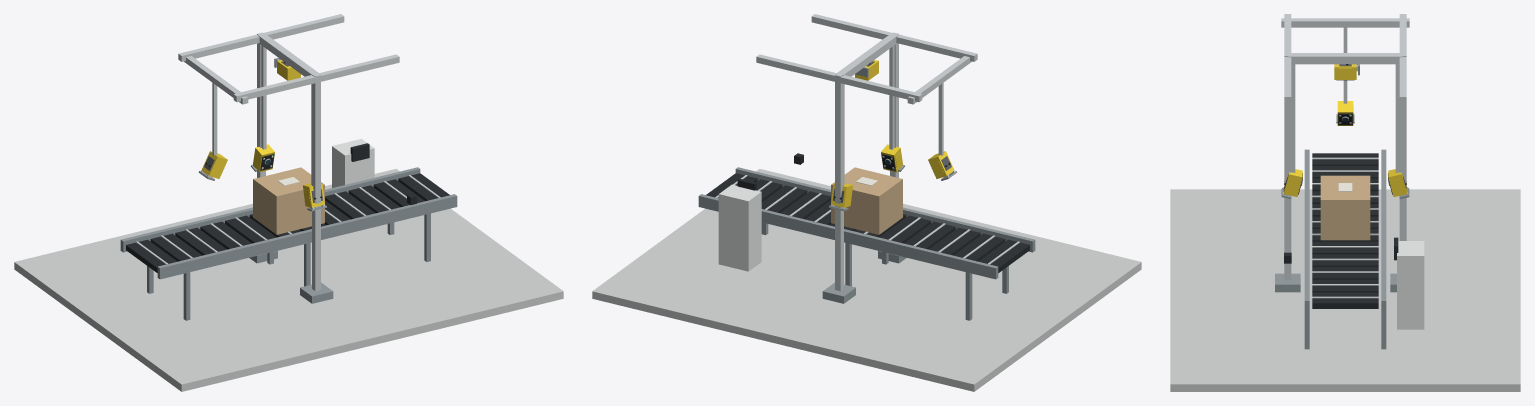
3 views of the same model, side by side, from view 1: azimuth 30°, elevation 25°; view 2: azimuth 150°, elevation 25°; view 3: azimuth 270°, elevation 25° (orthographic). The views are drawn at different scales.
Parts seen in each view (by area): view 1: Floor, Conveyor side rail, Parcel, Extrusion upright, Conveyor side rail.001, Longitudinal top frame, Longitudinal top frame.001, Control cabinet, Overhead crossbeam, Cross-belt sorter carrier, Cross-belt sorter carrier.001, Cross-belt sorter carrier.009 (+9 smaller); view 2: Floor, Conveyor side rail.001, Control cabinet, Parcel, Extrusion upright.001, Conveyor side rail, Longitudinal top frame.001, Longitudinal top frame, Overhead crossbeam, Cross-belt sorter carrier, Cross-belt sorter carrier.001, Cross-belt sorter carrier.002 (+7 smaller); view 3: Floor, Parcel, Control cabinet, Overhead crossbeam, Extrusion upright, End-face sensor bracket, Cross-belt sorter carrier.011, Conveyor side rail, Conveyor side rail.001, Extrusion upright.001, Cross-belt sorter carrier.007, Cross-belt sorter carrier.010 (+11 smaller).
Part boxes in pixels (x1,y1,x2,y2): Floor: (14,169,563,391); Conveyor side rail: (157,194,457,279); Parcel: (253,167,324,234); Extrusion upright: (312,74,320,291); Conveyor side rail.001: (120,167,420,252); Longitudinal top frame: (233,54,399,102); Longitudinal top frame.001: (178,14,344,61); Control cabinet: (332,139,374,187); Overhead crossbeam: (258,33,319,76); Cross-belt sorter carrier: (126,239,177,272); Cross-belt sorter carrier.001: (150,233,201,261); Cross-belt sorter carrier.009: (348,185,400,213); Floor: (592,169,1141,391); Conveyor side rail.001: (698,194,998,279); Control cabinet: (718,184,761,271); Parcel: (831,167,902,234); Extrusion upright.001: (835,74,843,291); Conveyor side rail: (735,167,1035,252); Longitudinal top frame.001: (756,54,922,102); Longitudinal top frame: (811,14,977,61); Overhead crossbeam: (836,33,897,76); Cross-belt sorter carrier: (978,239,1029,272); Cross-belt sorter carrier.001: (954,233,1005,261); Cross-belt sorter carrier.002: (929,227,980,255); Floor: (1170,189,1520,391); Parcel: (1320,175,1370,240); Control cabinet: (1397,241,1424,329); Overhead crossbeam: (1288,53,1402,64); Extrusion upright: (1284,53,1291,280); End-face sensor bracket: (1281,18,1409,27); Cross-belt sorter carrier.011: (1312,292,1378,308); Conveyor side rail: (1304,149,1309,312); Conveyor side rail.001: (1381,149,1386,312); Extrusion upright.001: (1399,53,1406,240); Cross-belt sorter carrier.007: (1312,241,1378,254); Cross-belt sorter carrier.010: (1312,279,1378,292).
Size of the model in its own units: 5.4 by 3.1 by 4.1.
